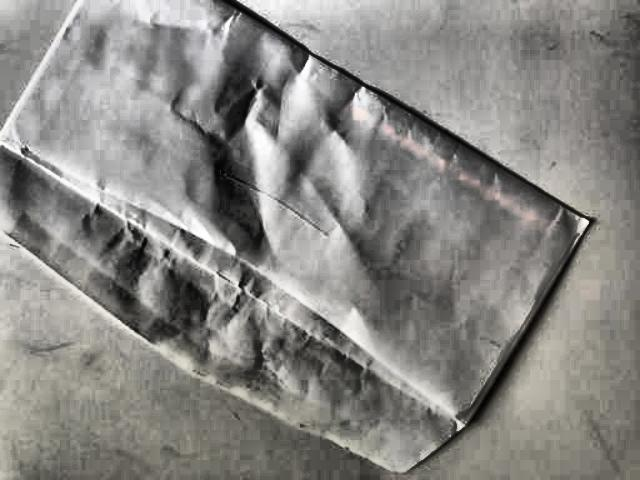Paper: (0, 0, 599, 475)
